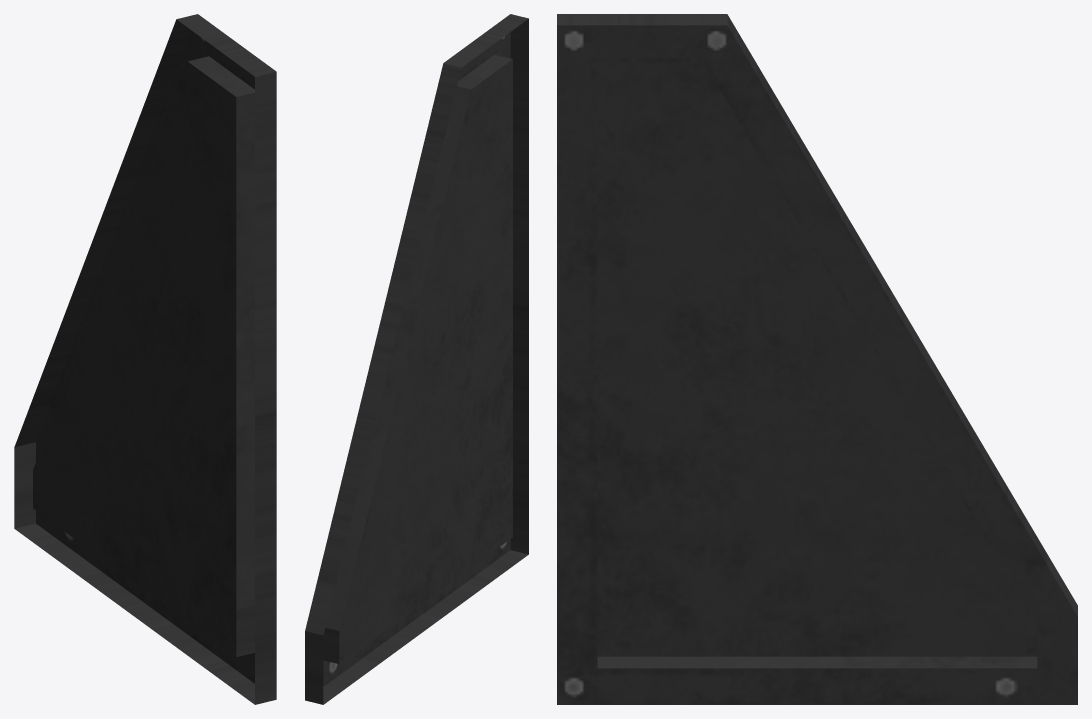
File: IndustrialModularPiece2.fbx
The picture shows the model from 3 angles, left to right: view 1: azimuth 30°, elevation 25°; view 2: azimuth 150°, elevation 25°; view 3: azimuth 270°, elevation 25°; orthographic projection. The views are drawn at different scales.
Parts seen in each view (by area): view 1: Engine_low.012; view 2: Engine_low.012; view 3: Engine_low.012.
Part boxes in pixels (x1,y1,x2,y2): Engine_low.012: (14, 14, 276, 704); Engine_low.012: (305, 14, 528, 704); Engine_low.012: (557, 14, 1077, 704).
Size of the model in its own units: 4.51 by 126 by 87.32.
